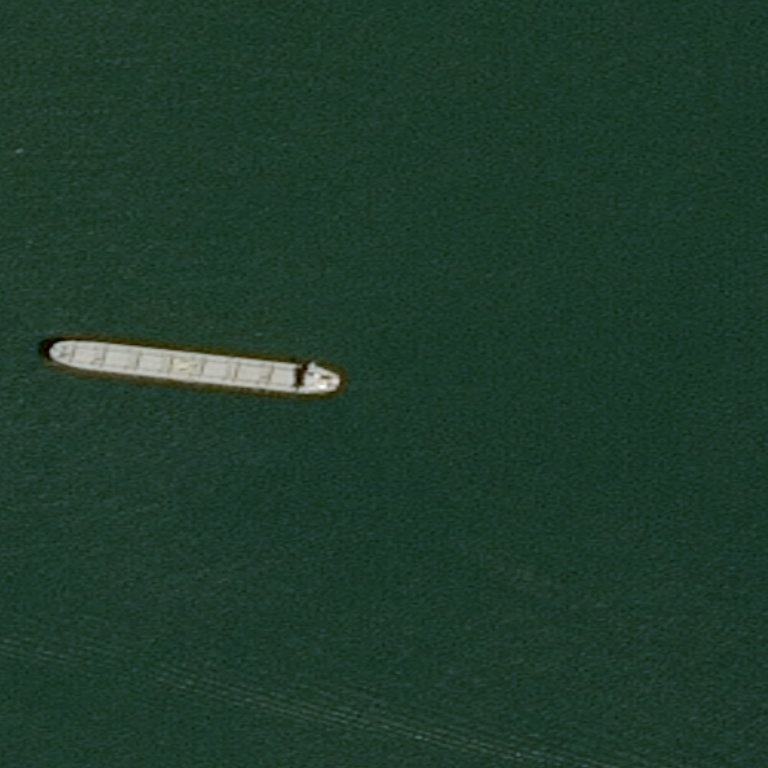ship: (43, 327, 343, 399)
